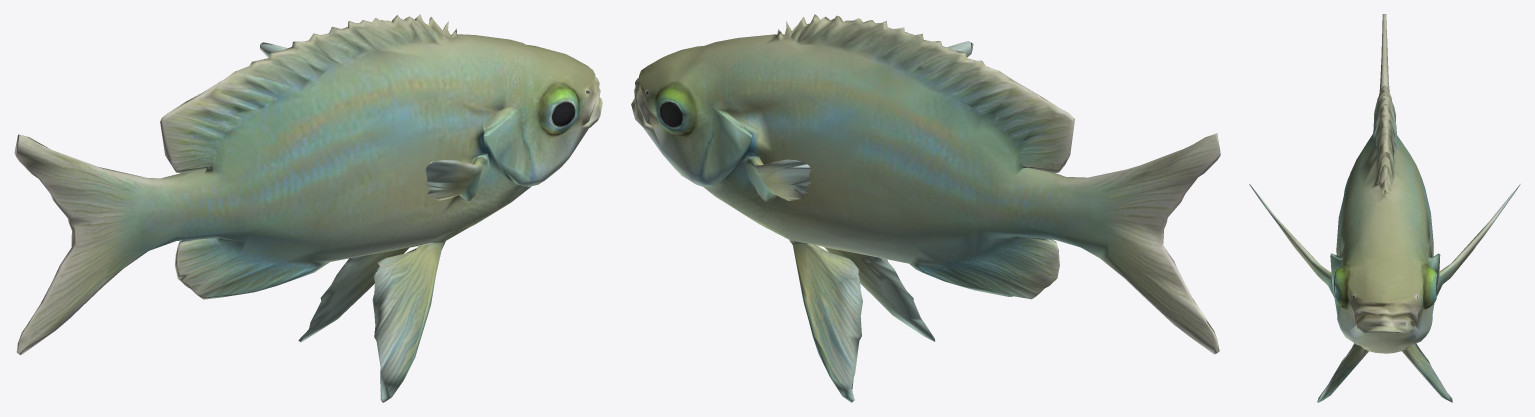
File: chromis.glb
3 views of the same model, side by side, from view 1: azimuth 30°, elevation 25°; view 2: azimuth 150°, elevation 25°; view 3: azimuth 270°, elevation 25° (orthographic). The views are drawn at different scales.
Visible parts, largest first — view 1: tripo_node_188eecd9-d61a-4f26-9ebd-3ab3d65e92f2; view 2: tripo_node_188eecd9-d61a-4f26-9ebd-3ab3d65e92f2; view 3: tripo_node_188eecd9-d61a-4f26-9ebd-3ab3d65e92f2.
Boxes of the visible parts, x1,y1,x2,y2 form: tripo_node_188eecd9-d61a-4f26-9ebd-3ab3d65e92f2: (14, 14, 602, 402); tripo_node_188eecd9-d61a-4f26-9ebd-3ab3d65e92f2: (631, 14, 1220, 402); tripo_node_188eecd9-d61a-4f26-9ebd-3ab3d65e92f2: (1249, 14, 1520, 402).
Bounding box in the file's own units: 0.9986 × 0.5695 × 0.4912.
1 material, 1 textured.
